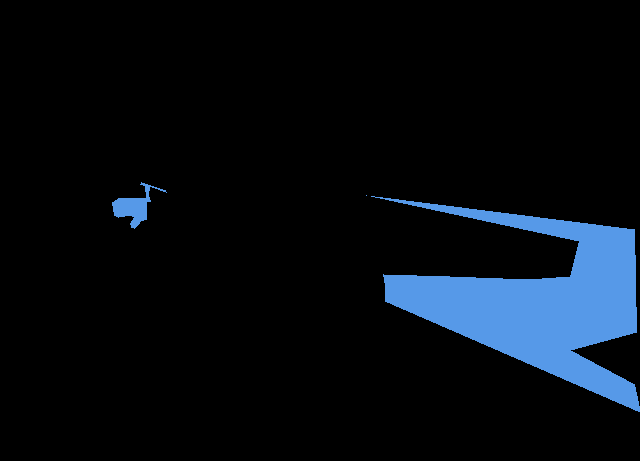Airplane: (366, 195, 640, 412), (112, 182, 166, 228)
